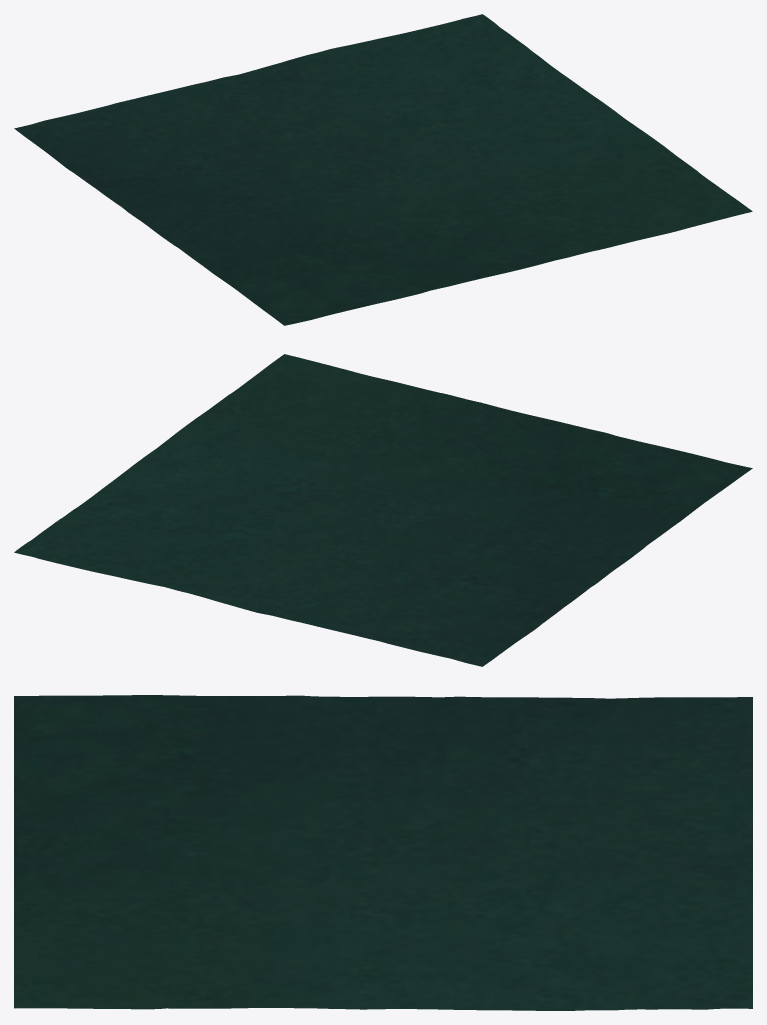
3 views of the same model, one above another, from view 1: azimuth 30°, elevation 25°; view 2: azimuth 150°, elevation 25°; view 3: azimuth 270°, elevation 25° (orthographic). The views are drawn at different scales.
Size of the model in its own units: 104 by 0.8464 by 104.
Materials: 2 (2 with a texture image).
